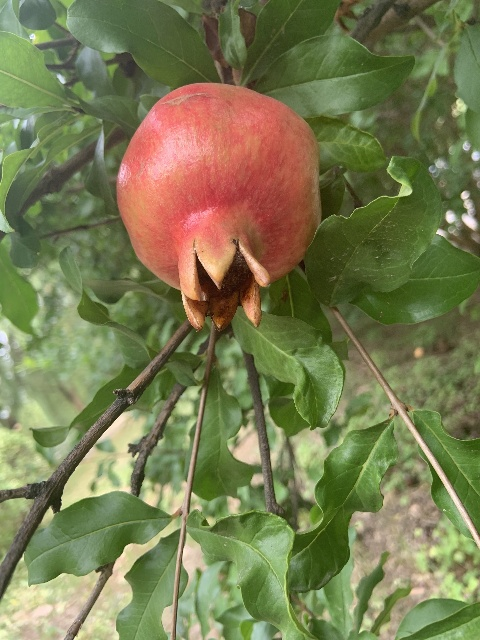ripe: (115, 82, 320, 336)
